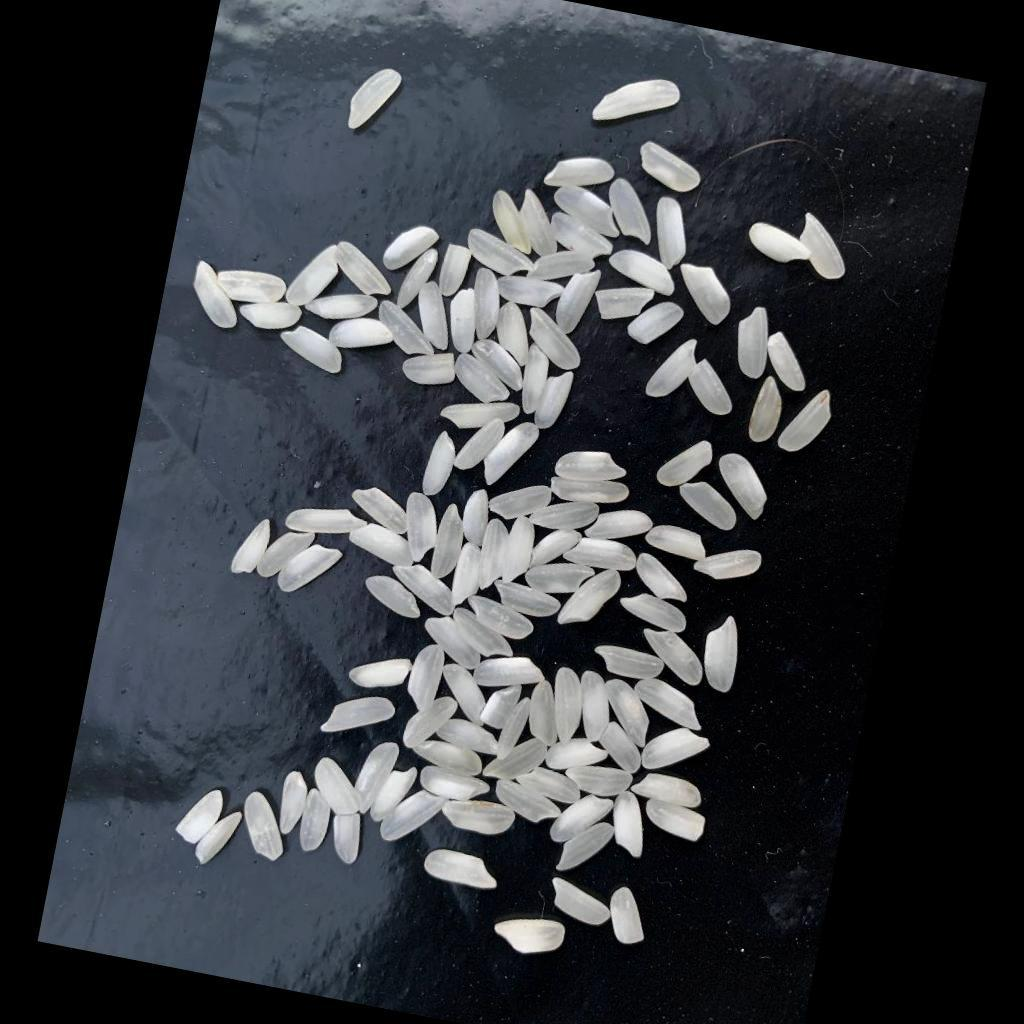rice: (592, 68, 684, 137), (380, 784, 452, 852), (558, 561, 624, 635), (481, 416, 542, 493), (522, 307, 592, 374), (636, 627, 711, 688), (711, 453, 776, 523), (778, 384, 838, 459), (630, 677, 711, 732), (550, 184, 629, 240), (672, 262, 739, 328), (795, 214, 858, 284), (387, 560, 463, 618), (187, 259, 249, 330), (286, 239, 345, 313), (321, 689, 397, 746), (642, 722, 715, 781), (238, 790, 296, 864), (351, 737, 403, 819), (373, 300, 444, 360), (549, 788, 615, 852), (347, 64, 404, 138), (602, 179, 663, 247), (646, 334, 703, 406), (278, 539, 344, 601), (331, 241, 400, 300), (636, 140, 708, 196), (484, 729, 552, 788), (492, 911, 569, 963), (605, 246, 682, 298), (419, 614, 488, 672), (556, 815, 617, 880), (514, 189, 569, 260), (436, 662, 496, 727), (464, 229, 539, 281), (647, 197, 698, 273), (403, 690, 461, 756), (285, 499, 370, 544), (448, 607, 520, 660), (544, 666, 591, 747), (699, 613, 746, 694), (553, 264, 603, 340), (675, 478, 744, 533), (486, 191, 544, 256), (474, 648, 550, 697), (464, 595, 540, 644), (257, 523, 317, 585), (545, 876, 616, 928), (278, 323, 349, 375), (547, 211, 618, 263), (423, 847, 505, 892), (492, 778, 567, 827), (310, 757, 369, 819), (732, 304, 779, 381), (411, 280, 461, 352), (657, 433, 716, 494), (467, 338, 532, 393), (452, 353, 518, 407), (398, 493, 446, 567), (555, 444, 632, 490), (348, 485, 416, 537), (349, 520, 421, 569), (761, 331, 817, 394), (440, 795, 518, 840), (455, 412, 509, 477), (488, 477, 555, 529), (684, 357, 742, 417), (572, 672, 619, 746), (591, 640, 669, 684), (544, 152, 617, 199), (607, 790, 656, 860), (746, 221, 817, 269), (585, 502, 656, 550), (550, 471, 633, 512), (304, 285, 381, 329), (617, 590, 692, 635), (383, 222, 441, 280), (525, 556, 598, 602), (530, 493, 603, 539), (564, 534, 642, 577), (370, 761, 420, 828), (695, 542, 766, 589), (215, 265, 289, 310), (632, 552, 696, 604), (627, 297, 688, 351), (527, 245, 598, 291), (175, 785, 226, 849), (431, 502, 471, 583), (347, 648, 414, 696), (361, 574, 428, 622), (605, 884, 656, 947), (525, 678, 570, 749), (545, 733, 611, 781), (195, 806, 244, 870), (592, 281, 656, 330), (630, 769, 708, 809), (406, 642, 448, 716), (467, 269, 509, 343), (329, 312, 397, 357), (419, 764, 493, 805), (397, 245, 440, 315), (563, 760, 636, 801), (515, 763, 586, 805), (643, 798, 709, 843), (493, 581, 565, 622), (595, 720, 648, 775), (644, 521, 713, 563), (410, 738, 486, 776), (749, 374, 789, 446), (496, 273, 568, 313), (232, 514, 276, 579), (476, 518, 513, 594), (518, 342, 555, 418), (503, 515, 541, 588), (534, 368, 576, 434), (422, 429, 461, 500), (445, 287, 485, 356), (435, 716, 502, 756), (452, 541, 490, 610), (402, 345, 460, 390), (239, 296, 304, 336), (299, 789, 337, 856), (497, 695, 532, 764), (277, 770, 313, 837), (480, 680, 524, 732), (460, 488, 496, 549), (329, 810, 368, 866), (438, 245, 472, 300)
